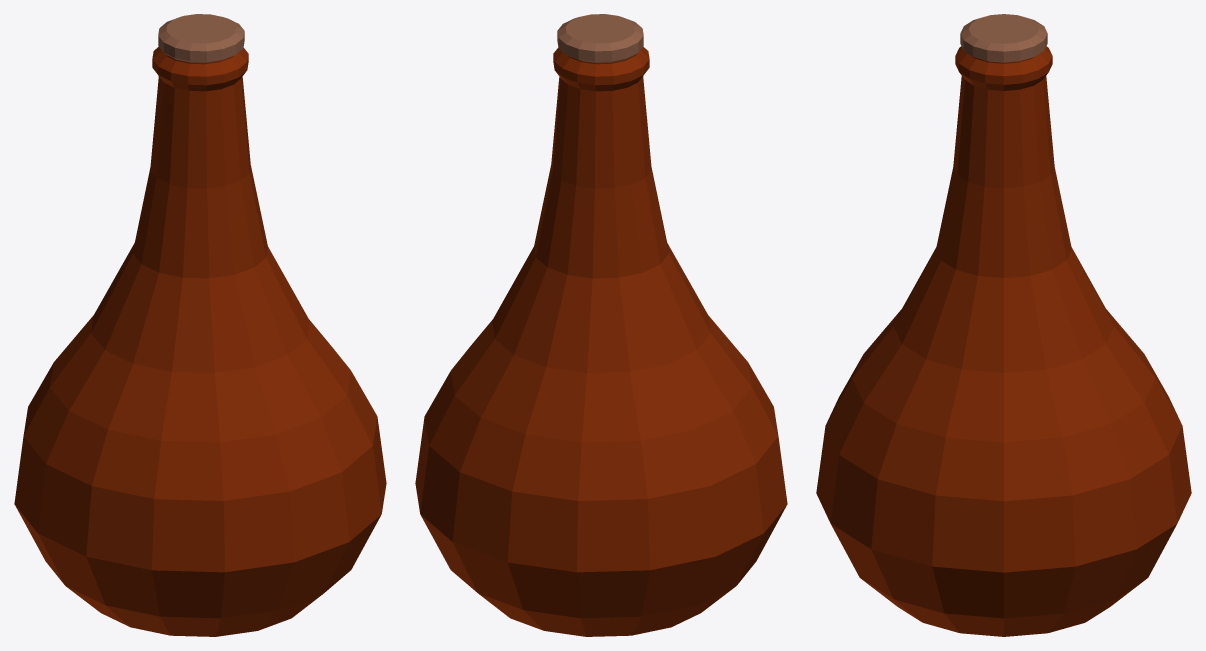
File: flask.fbx
3 views of the same model, side by side, from view 1: azimuth 30°, elevation 25°; view 2: azimuth 150°, elevation 25°; view 3: azimuth 270°, elevation 25° (orthographic).
Visible parts, largest first — view 1: Sphere; view 2: Sphere; view 3: Sphere.
Part boxes in pixels (box(x1,y1,x2,y2)): Sphere: box(14, 14, 386, 636); Sphere: box(415, 14, 787, 636); Sphere: box(816, 14, 1191, 636).
Bounding box in the file's own units: 200 × 329 × 200.
